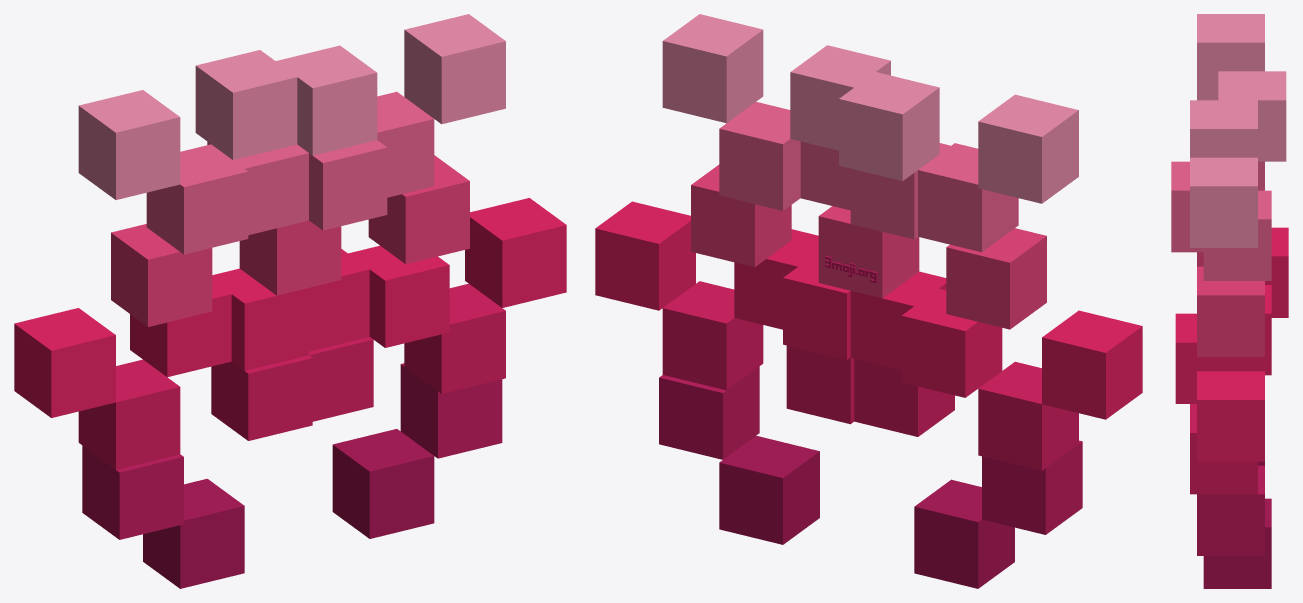
The model's file is alien_monster.fbx.
3 renders of one model, left to right at view 1: azimuth 30°, elevation 25°; view 2: azimuth 150°, elevation 25°; view 3: azimuth 270°, elevation 25°, orthographic. The views are drawn at different scales.
Parts seen in each view (by area): view 1: Alien Monster; view 2: Alien Monster; view 3: Alien Monster.
Boxes of the visible parts, x1,y1,x2,y2 form: Alien Monster: (14, 14, 566, 588); Alien Monster: (595, 14, 1142, 588); Alien Monster: (1171, 14, 1288, 588).
Size of the model in its own units: 176 by 154 by 37.86.
1 material, 1 textured.
